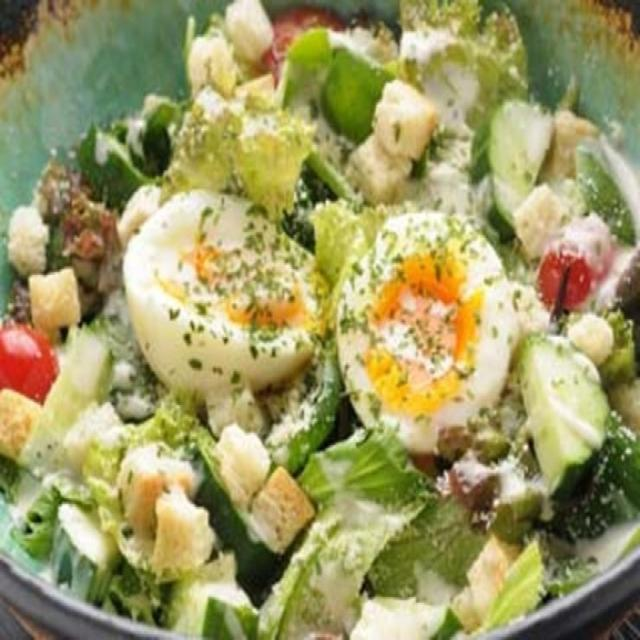蔬菜料理: (13, 27, 629, 620)
